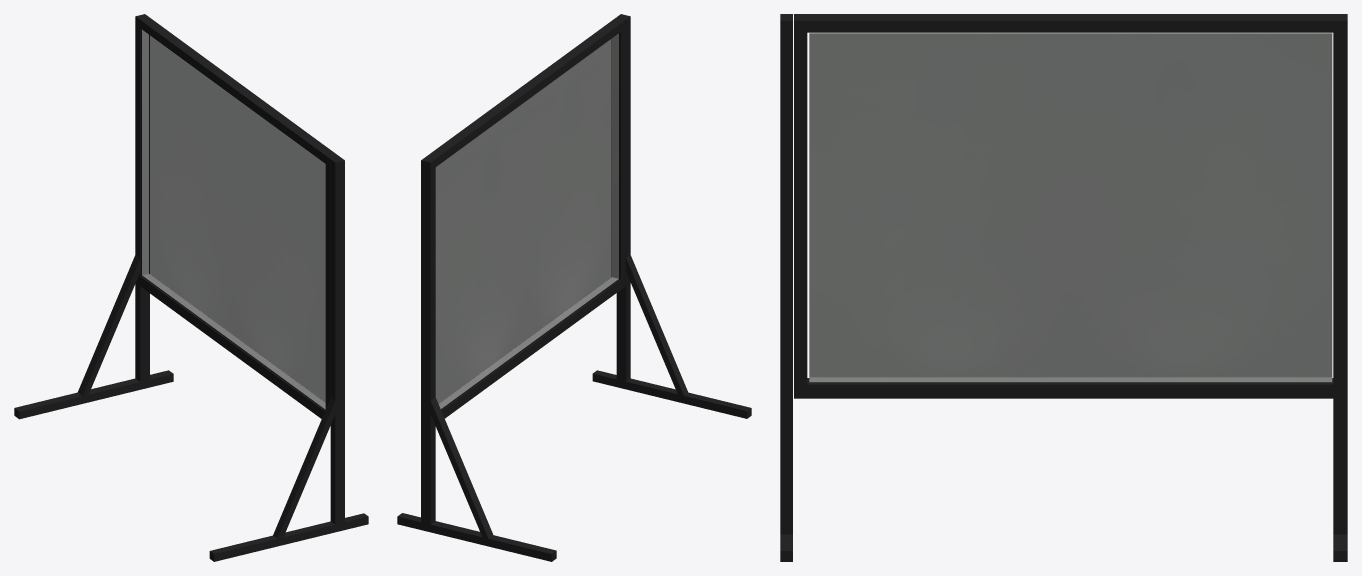
The model's file is sensor-screen.fbx.
3 renders of one model, left to right at view 1: azimuth 30°, elevation 25°; view 2: azimuth 150°, elevation 25°; view 3: azimuth 270°, elevation 25°, orthographic. The views are drawn at different scales.
Visible parts, largest first — view 1: sensor_screen; view 2: sensor_screen; view 3: sensor_screen.
Part boxes in pixels (x1,y1,x2,y2): sensor_screen: (14,14,368,561); sensor_screen: (397,14,751,561); sensor_screen: (780,14,1347,561).
Size of the model in its own units: 9.74 by 22.27 by 21.82.
